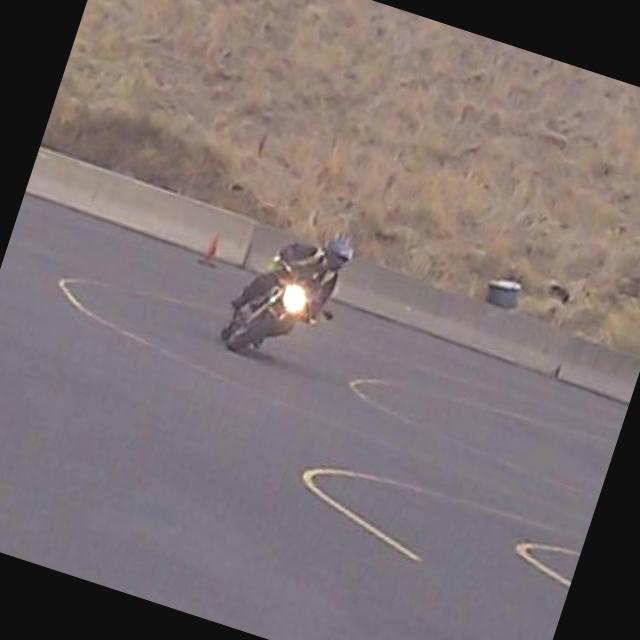Vehicle: (225, 251, 332, 374)
